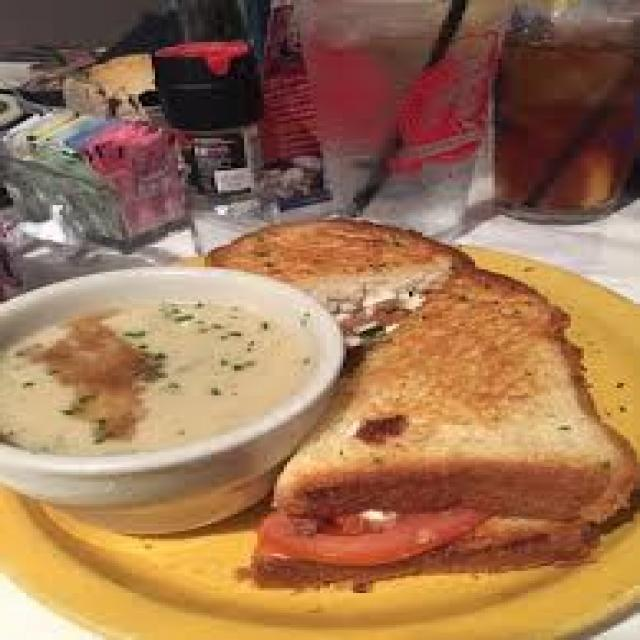Sandwich: (217, 200, 624, 586)
